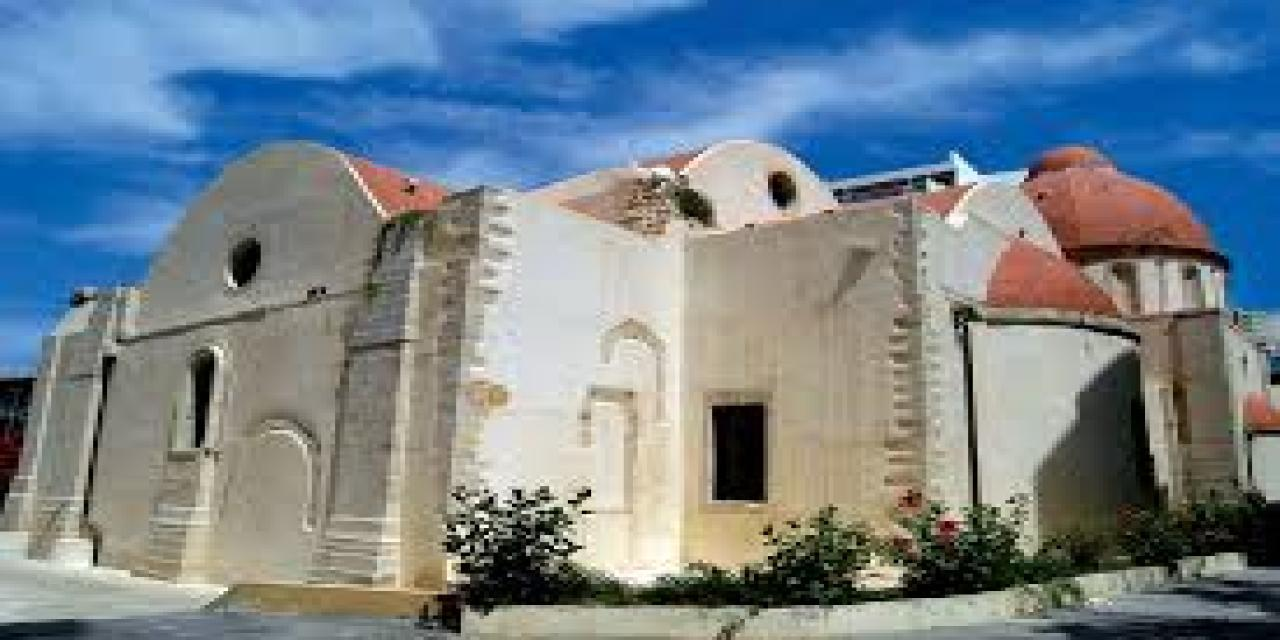Agia Aikaterini: (34, 149, 1280, 590)
